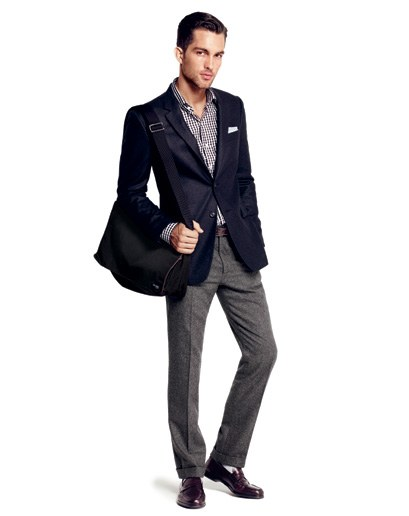NOTSAFE: (155, 9, 260, 277)
